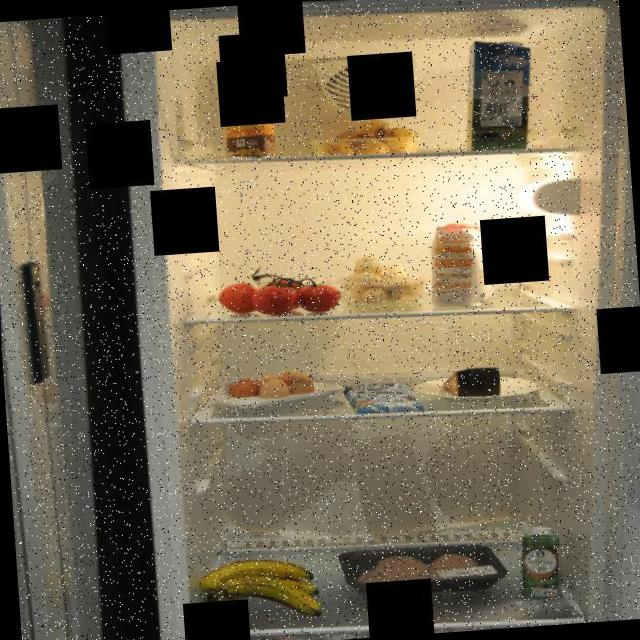Carne pollo: (327, 534, 514, 604)
Champiñones: (336, 251, 426, 308)
Huevos: (225, 362, 318, 409)
Leche: (459, 30, 536, 154)
Patata: (304, 110, 422, 160)
Plátano: (192, 552, 326, 626)
Queso: (434, 361, 504, 402)
Tomate: (214, 251, 345, 319)
